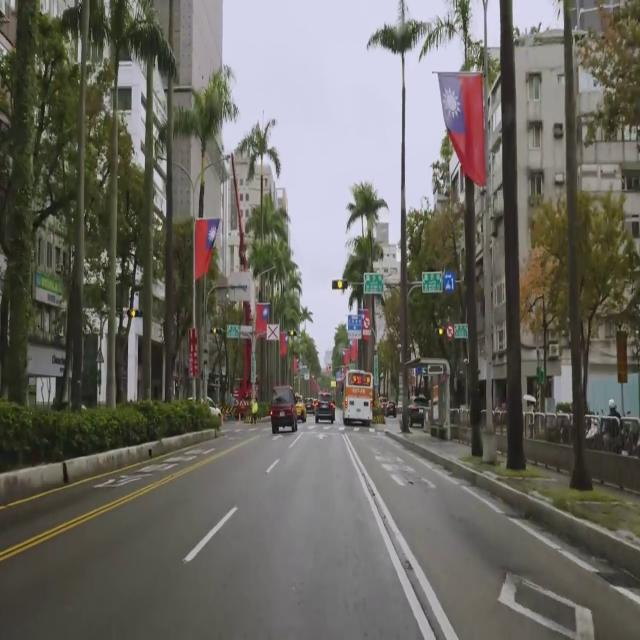yellow light: (331, 279, 348, 290), (286, 328, 298, 336)
